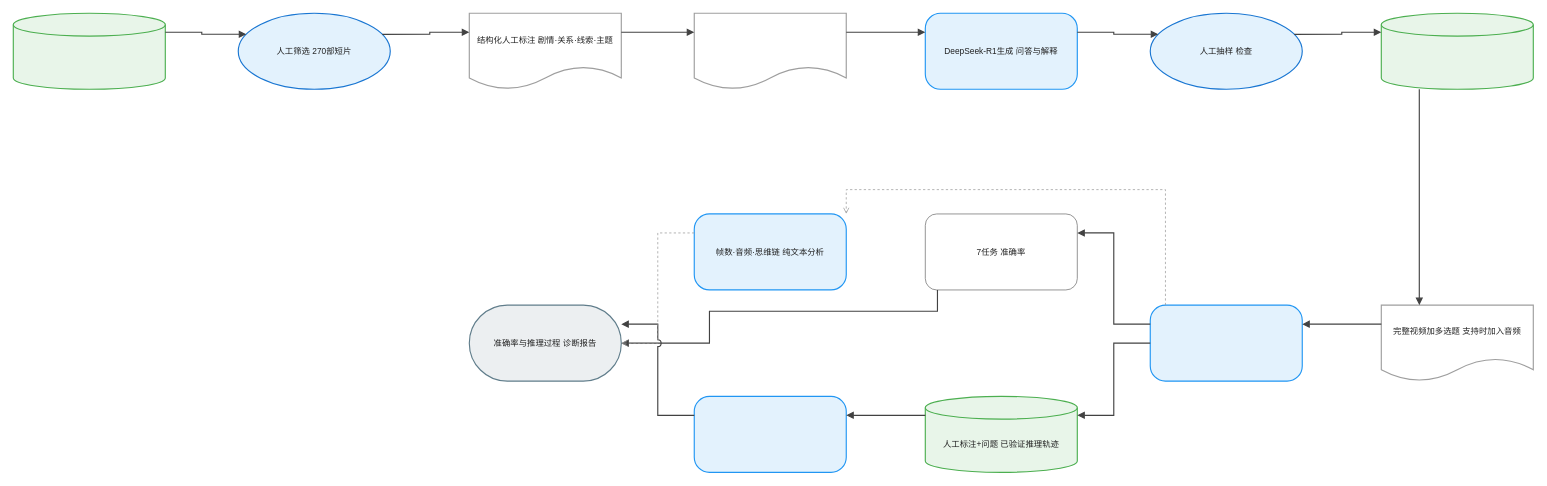
Image size: 1547x486. Some labels were removed from this diagram. The centre of each missing label's shape, as x and y in pixels:
"2500多部YouTube 悬疑短片" goes at (89,51).
"270部短片 1837道问题" goes at (1457,51).
"7类推理 任务定义" goes at (769,51).
"DeepSeek-R1分类 错答4类·答对2类" goes at (769,434).
"模型答案 与思维链轨迹" goes at (1225,342).
